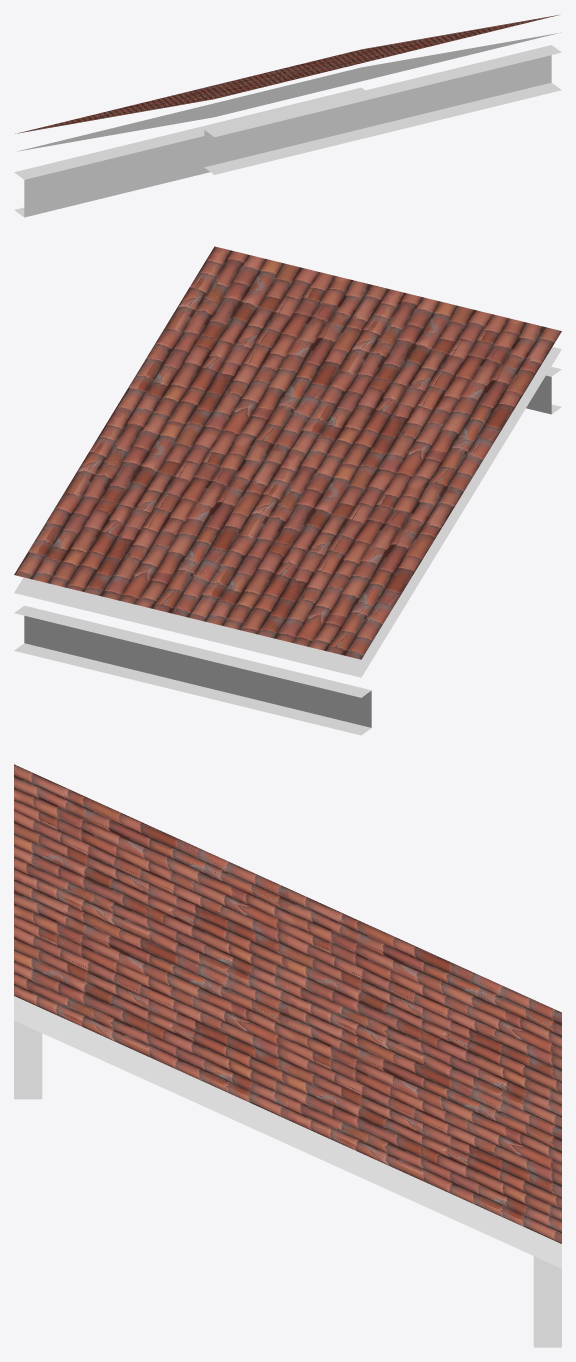
File: WallKit_Slope_LOD2.fbx
3 views of the same model, one above another, from view 1: azimuth 30°, elevation 25°; view 2: azimuth 150°, elevation 25°; view 3: azimuth 270°, elevation 25° (orthographic). The views are drawn at different scales.
Visible parts, largest first — view 1: WallKit_Slope_LOD2; view 2: WallKit_Slope_LOD2; view 3: WallKit_Slope_LOD2.
Boxes of the visible parts, left/top/right/bottom form: WallKit_Slope_LOD2: left=14, top=15, right=561, bottom=217; WallKit_Slope_LOD2: left=14, top=246, right=561, bottom=735; WallKit_Slope_LOD2: left=14, top=764, right=561, bottom=1347.
Size of the model in its own units: 400 by 283 by 400.
